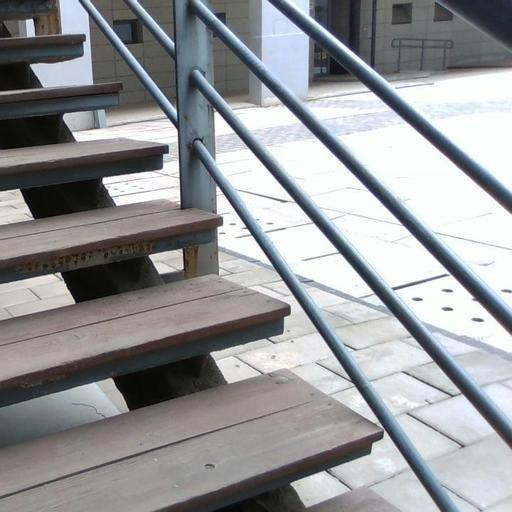stairs: (0, 371, 381, 511), (0, 276, 288, 405), (0, 200, 221, 281), (0, 139, 167, 189), (0, 83, 121, 119), (0, 34, 84, 64)
